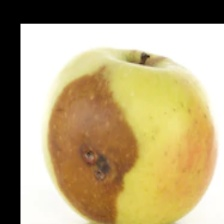apple: (22, 9, 202, 176)
